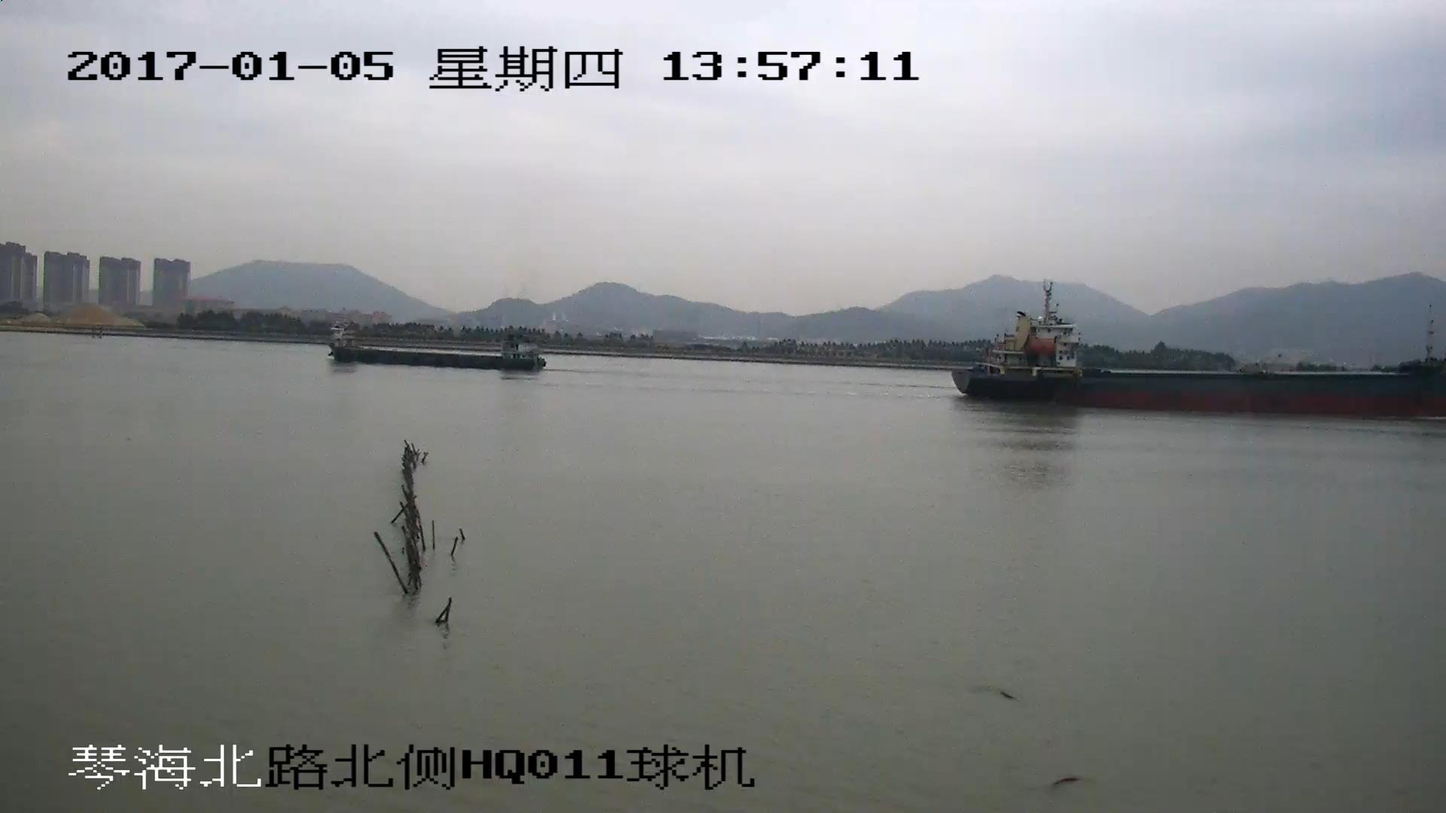general cargo ship: (950, 285, 1445, 419), (324, 321, 542, 373)
